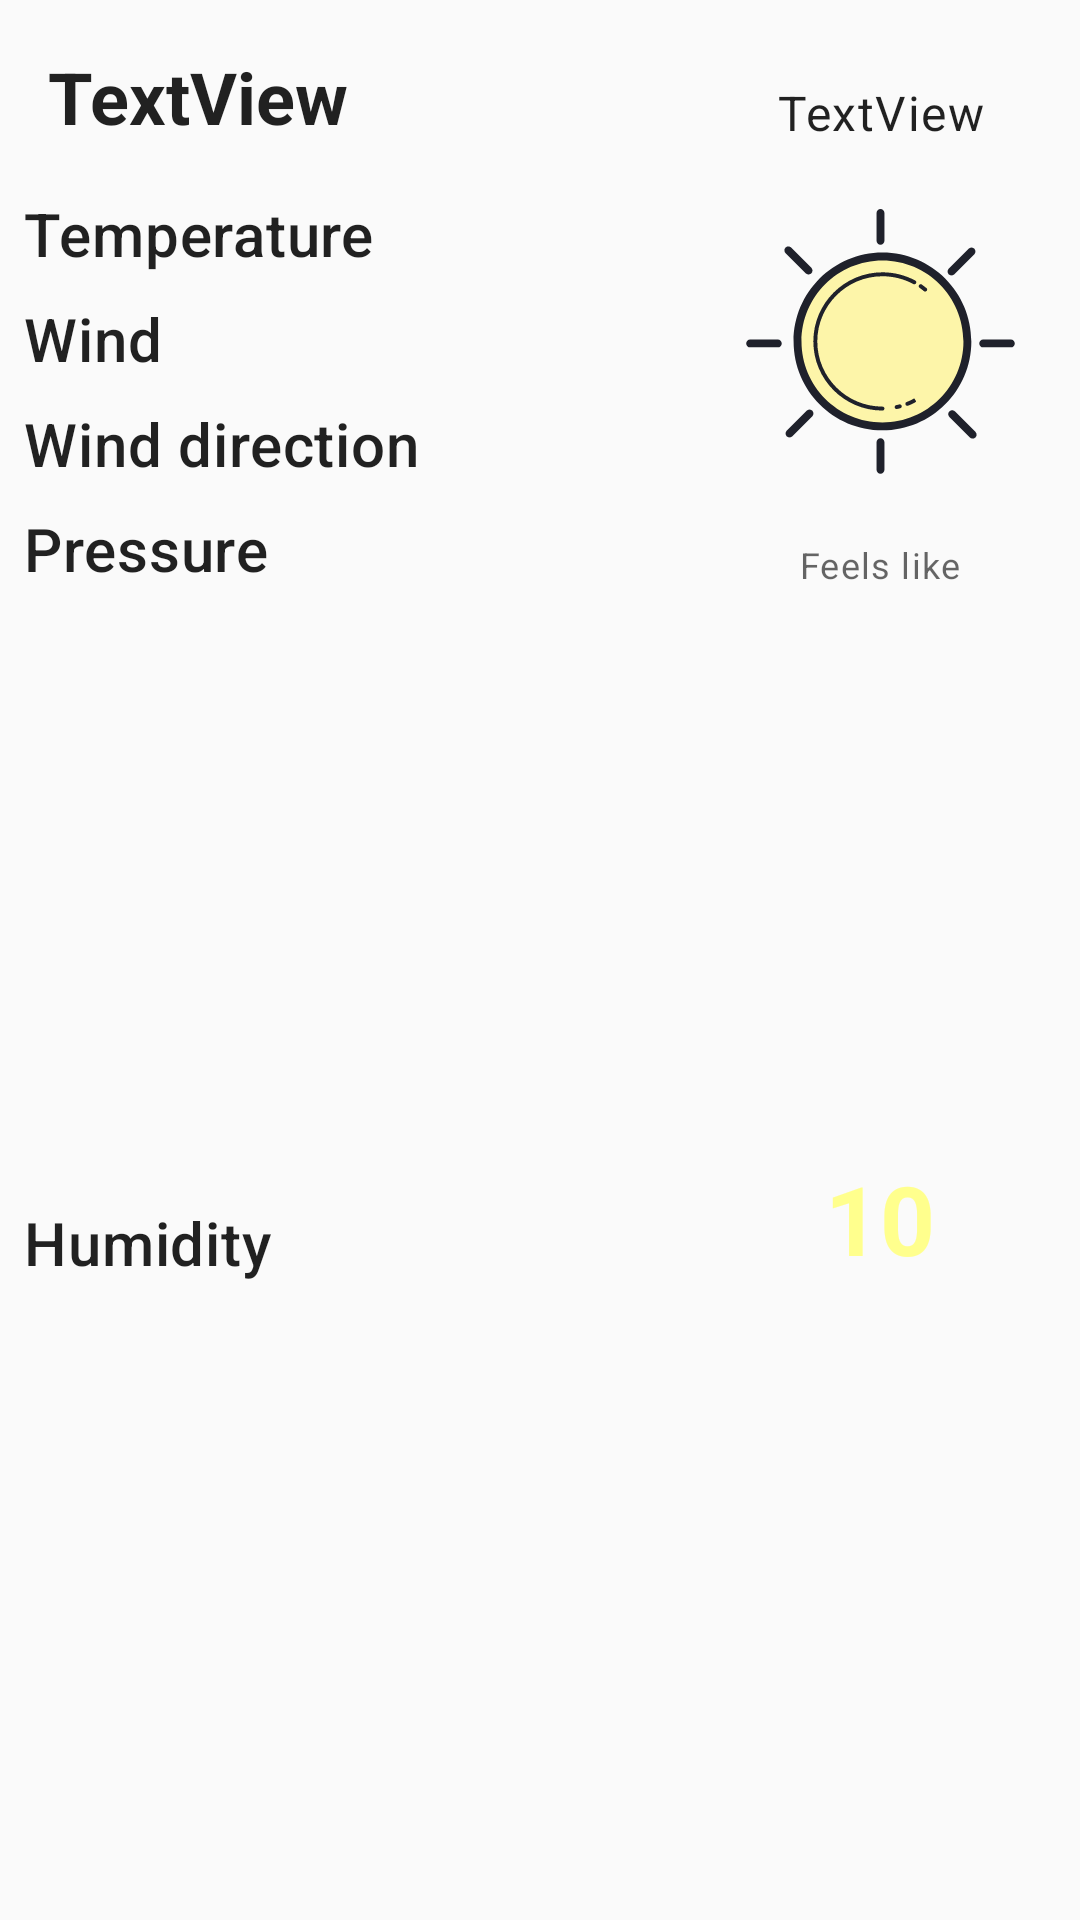

Where icons sit on this 1080×1920 app screen, as [left=x1, top=y1, right=x2, bottom=y2]:
sun demo: [left=746, top=209, right=1015, bottom=474]
